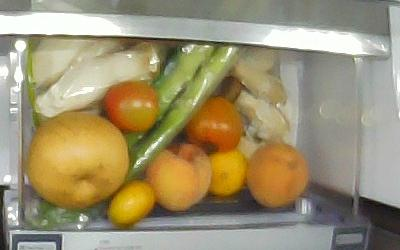peach: (147, 142, 211, 213), (248, 143, 308, 208)
pear: (29, 111, 129, 205)
tangerine: (108, 180, 155, 226), (206, 149, 247, 197)
tomato: (183, 96, 241, 151), (105, 83, 159, 131)
